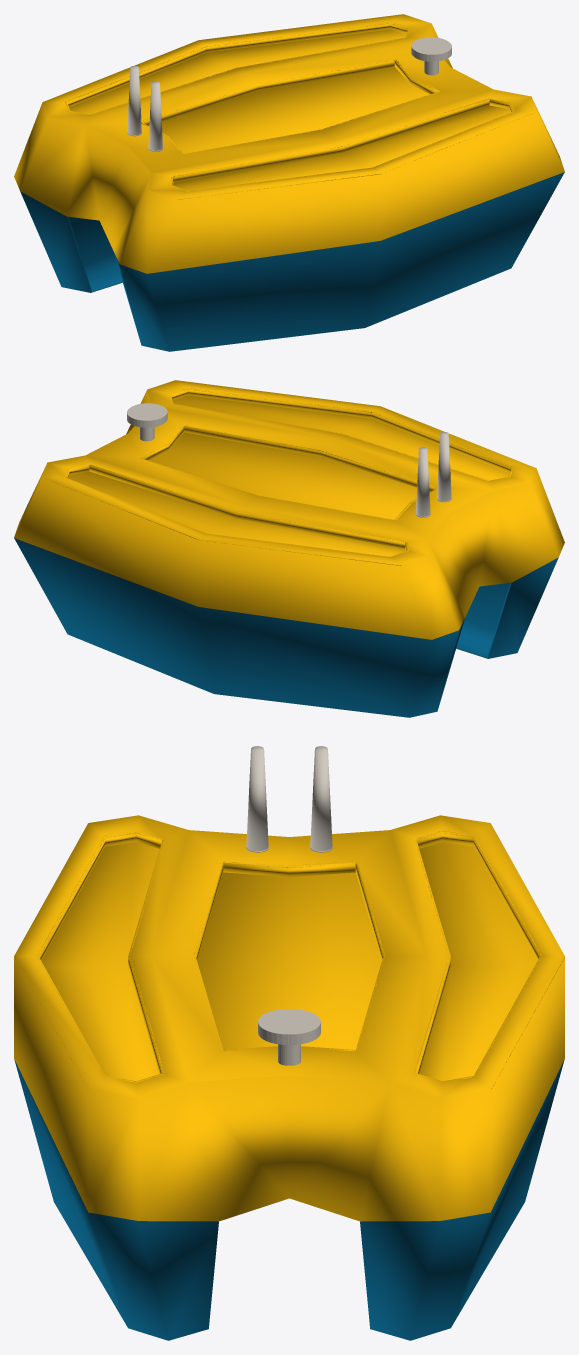
The model's file is argo.dae.
The picture shows the model from 3 angles, top to bottom: view 1: azimuth 30°, elevation 25°; view 2: azimuth 150°, elevation 25°; view 3: azimuth 270°, elevation 25°; orthographic projection. The views are drawn at different scales.
Visible parts, largest first — view 1: Cube; view 2: Cube; view 3: Cube.
Part boxes in pixels (x1,y1,x2,y2): Cube: (14, 14, 564, 351); Cube: (14, 380, 564, 717); Cube: (14, 746, 564, 1340).
Size of the model in its own units: 1.2 by 0.86 by 0.6.
